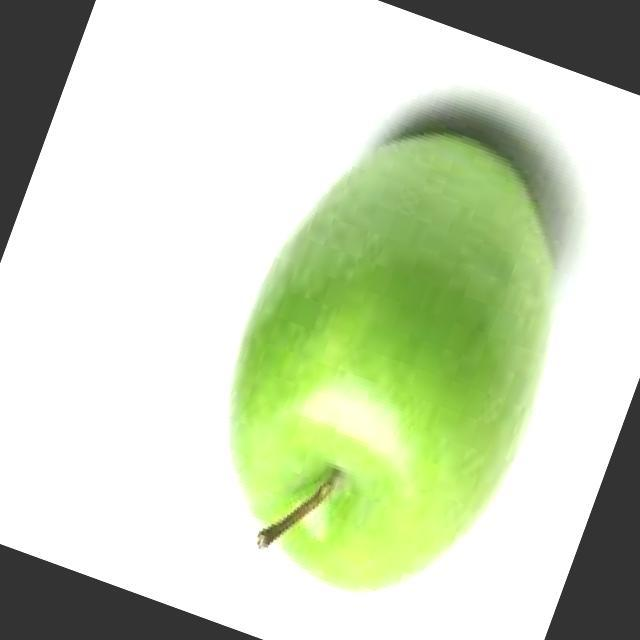Green Apple: (229, 124, 562, 592)
